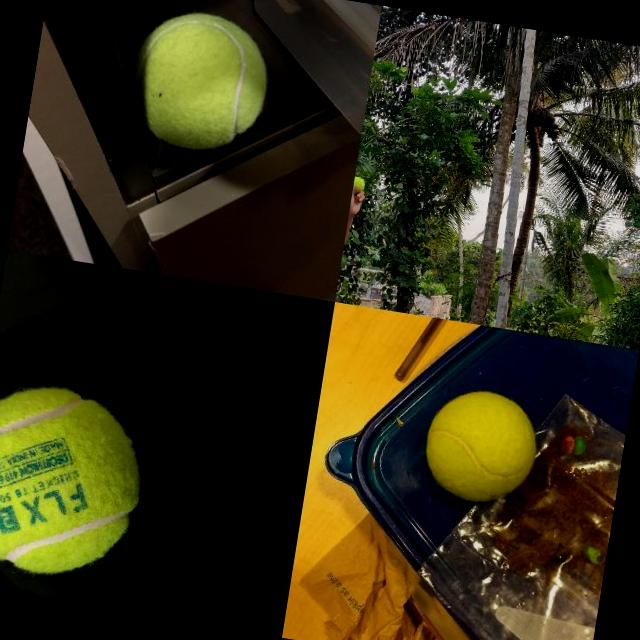tennis-ball: (0, 375, 155, 590), (120, 2, 277, 160), (418, 383, 545, 512), (352, 176, 367, 196)
